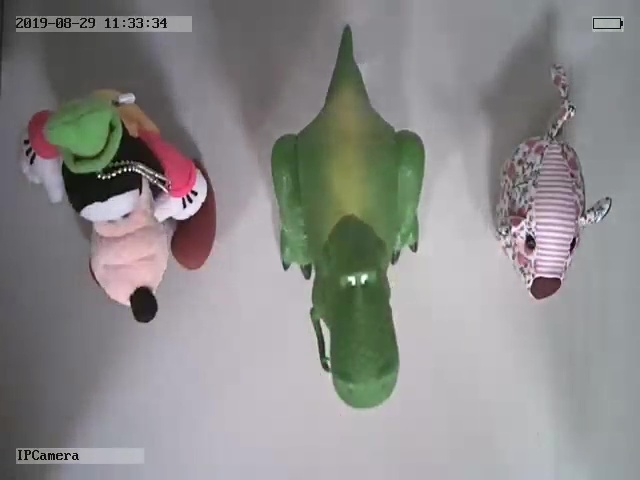goofy: (18, 88, 217, 325)
pig: (494, 63, 613, 301)
rex: (265, 23, 427, 409)
